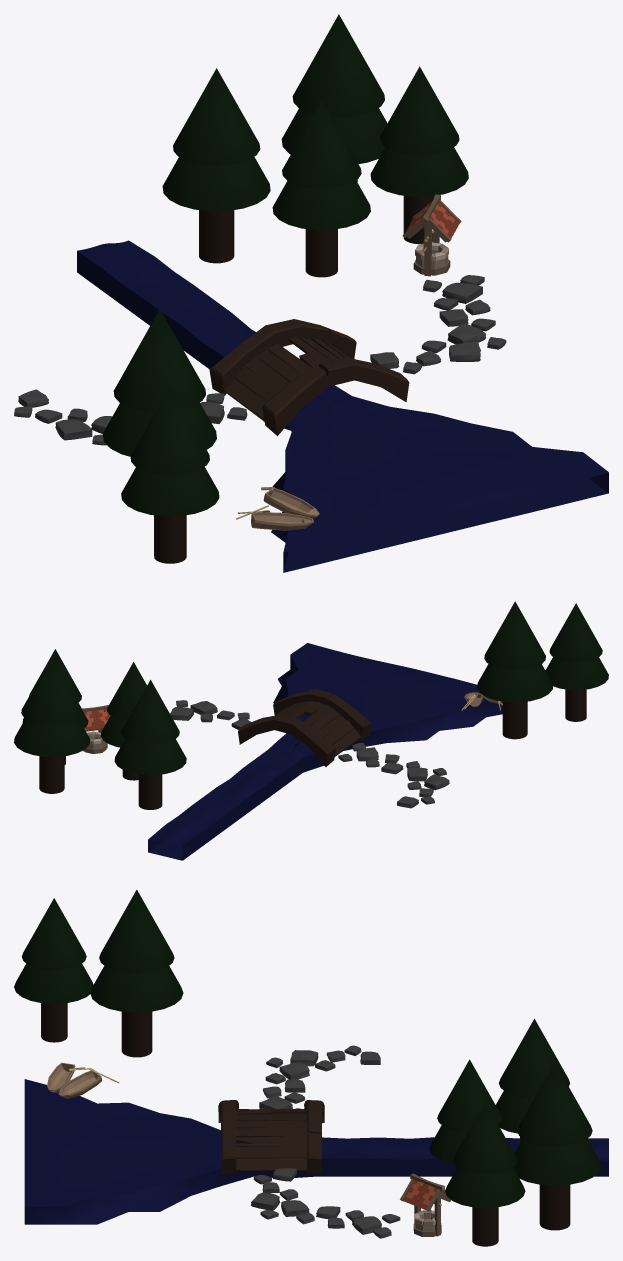
Rendered from others.obj.
3 views of the same model, one above another, from view 1: azimuth 30°, elevation 25°; view 2: azimuth 150°, elevation 25°; view 3: azimuth 270°, elevation 25° (orthographic). The views are drawn at different scales.
Parts seen in each view (by area): view 1: pCube1, bridge:Mesh, group4 pCone2, group11 pCone2, group2 pCone2, group2 pCone1, group8 pCone2, group3 pCone2, group10 pCone2, group10 pCone1, group3 pCone1, group8 pCone1 (+9 smaller); view 2: pCube1, bridge:Mesh, group11 pCone2, group4 pCone2, group11 pCone1, group4 pCone1, group2 pCone2, group2 pCone1, group10 pCone2, group10 pCone1, group3 pCone2, pCylinder1 group11 (+6 smaller); view 3: pCube1, bridge:Mesh, group11 pCone2, group4 pCone2, group11 pCone1, group4 pCone1, group8 pCone2, group10 pCone2, group2 pCone2, group8 pCone1, group10 pCone1, group3 pCone2 (+9 smaller).
Part boxes in pixels (box(x1,y1,x2,y2)): pCube1: box(77, 240, 608, 572); bridge:Mesh: box(209, 319, 409, 435); group4 pCone2: box(292, 14, 384, 117); group11 pCone2: box(113, 309, 205, 412); group2 pCone2: box(173, 68, 260, 165); group2 pCone1: box(162, 157, 270, 211); group8 pCone2: box(380, 66, 459, 155); group3 pCone2: box(282, 100, 361, 188); group10 pCone2: box(130, 386, 209, 475); group10 pCone1: box(121, 467, 219, 516); group3 pCone1: box(272, 180, 370, 230); group8 pCone1: box(370, 147, 468, 196); pCube1: box(148, 643, 502, 860); bridge:Mesh: box(238, 689, 371, 766); group11 pCone2: box(484, 601, 545, 670); group4 pCone2: box(21, 656, 82, 724); group11 pCone1: box(477, 664, 553, 702); group4 pCone1: box(14, 718, 90, 756); group2 pCone2: box(121, 679, 179, 744); group2 pCone1: box(114, 739, 186, 775); group10 pCone2: box(549, 603, 602, 662); group10 pCone1: box(545, 657, 608, 690); group3 pCone2: box(107, 662, 146, 720); pCylinder1 group11: box(502, 701, 527, 739); pCube1: box(24, 1079, 608, 1224); bridge:Mesh: box(218, 1100, 324, 1173); group11 pCone2: box(99, 889, 174, 973); group4 pCone2: box(517, 1063, 592, 1146); group11 pCone1: box(90, 966, 183, 1012); group4 pCone1: box(513, 1139, 601, 1185); group8 pCone2: box(453, 1102, 517, 1174); group10 pCone2: box(21, 898, 86, 970); group2 pCone2: box(499, 1018, 569, 1098); group8 pCone1: box(445, 1168, 525, 1208); group10 pCone1: box(14, 963, 93, 1003); group3 pCone2: box(437, 1059, 501, 1131).
Size of the model in its own units: 28.05 by 10.14 by 29.62.
